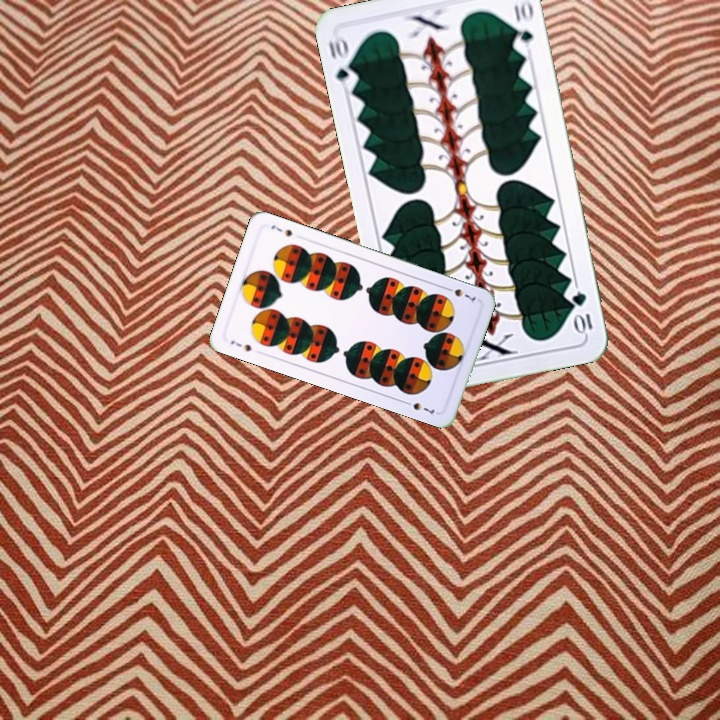G10: (324, 34, 360, 92), (568, 287, 595, 337)
S7: (441, 283, 479, 306), (226, 336, 254, 354)
